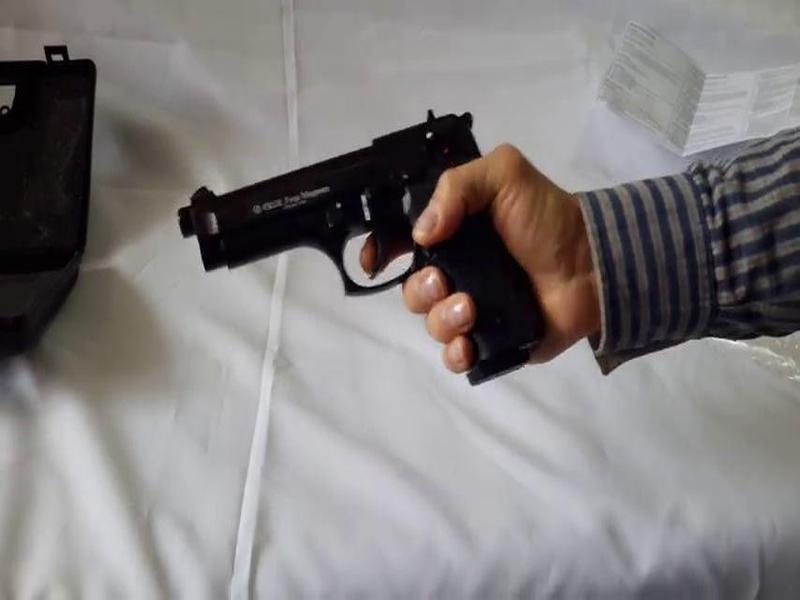Pistola: (154, 107, 546, 377)
